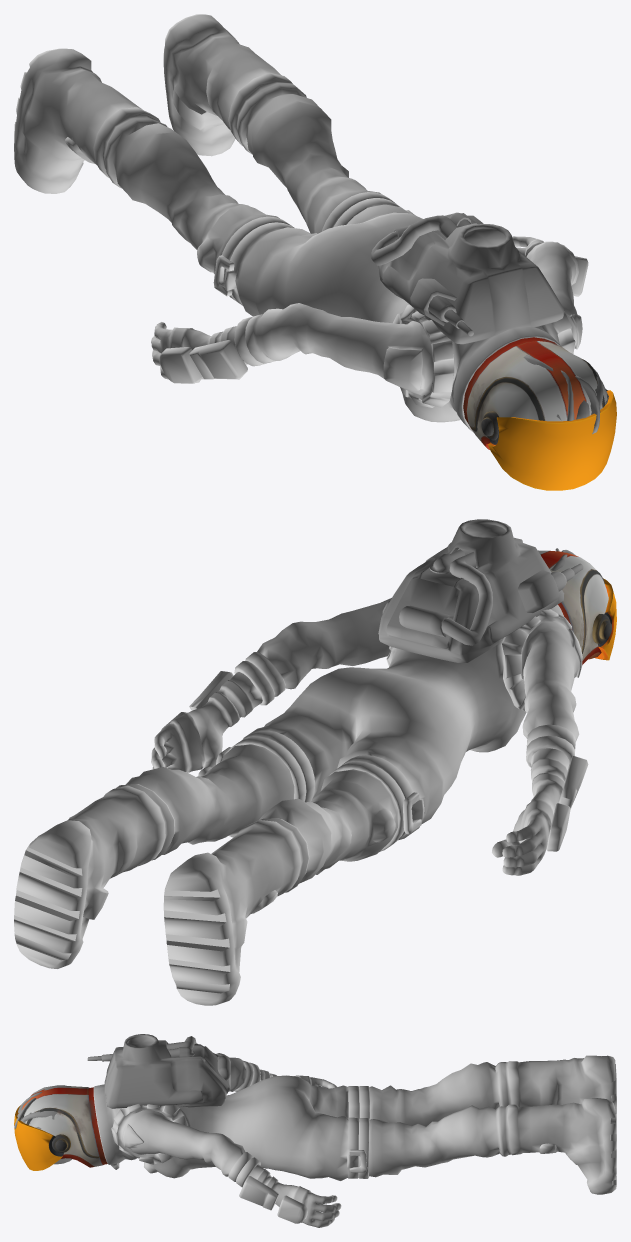
The model's file is med_astronaut.obj.
3 views of the same model, one above another, from view 1: azimuth 30°, elevation 25°; view 2: azimuth 150°, elevation 25°; view 3: azimuth 270°, elevation 25° (orthographic). The views are drawn at different scales.
Parts seen in each view (by area): view 1: 0000_SK_F_Med_Astronaut_01_Body, 0001_F_Med_Astronaut_01_Helmet, F_Med_Astronaut_01_Backpack, 0002_F_MED_CAU_Emmy_Head_01; view 2: 0000_SK_F_Med_Astronaut_01_Body, F_Med_Astronaut_01_Backpack, 0001_F_Med_Astronaut_01_Helmet; view 3: 0000_SK_F_Med_Astronaut_01_Body, F_Med_Astronaut_01_Backpack, 0001_F_Med_Astronaut_01_Helmet, 0002_F_MED_CAU_Emmy_Head_01.
Boxes of the visible parts, <box> form: 0000_SK_F_Med_Astronaut_01_Body: <box>14,14,588,432</box>; 0001_F_Med_Astronaut_01_Helmet: <box>463,337,616,490</box>; F_Med_Astronaut_01_Backpack: <box>371,212,564,344</box>; 0002_F_MED_CAU_Emmy_Head_01: <box>523,355,608,434</box>; 0000_SK_F_Med_Astronaut_01_Body: <box>14,598,588,1005</box>; F_Med_Astronaut_01_Backpack: <box>378,519,583,662</box>; 0001_F_Med_Astronaut_01_Helmet: <box>538,550,616,664</box>; 0000_SK_F_Med_Astronaut_01_Body: <box>93,1053,616,1227</box>; F_Med_Astronaut_01_Backpack: <box>87,1034,230,1108</box>; 0001_F_Med_Astronaut_01_Helmet: <box>14,1086,107,1170</box>; 0002_F_MED_CAU_Emmy_Head_01: <box>14,1085,71,1164</box>.
Bounding box in the file's own units: 850 × 403 × 1701.
